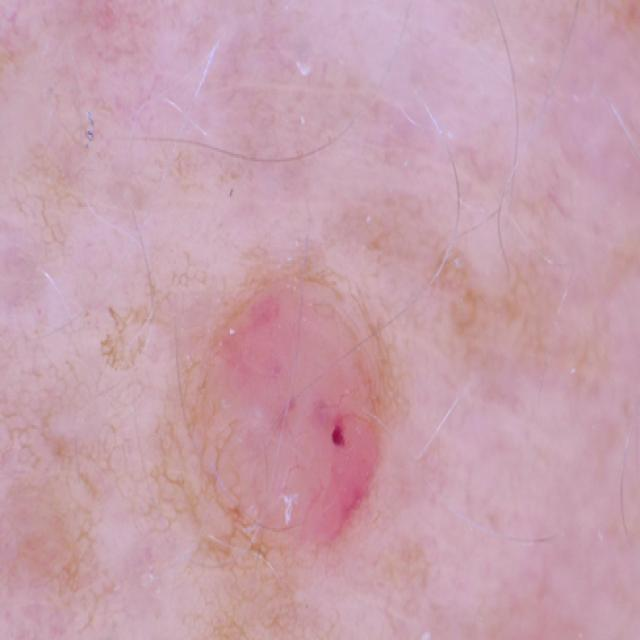Carcinoma: (158, 225, 499, 587)
